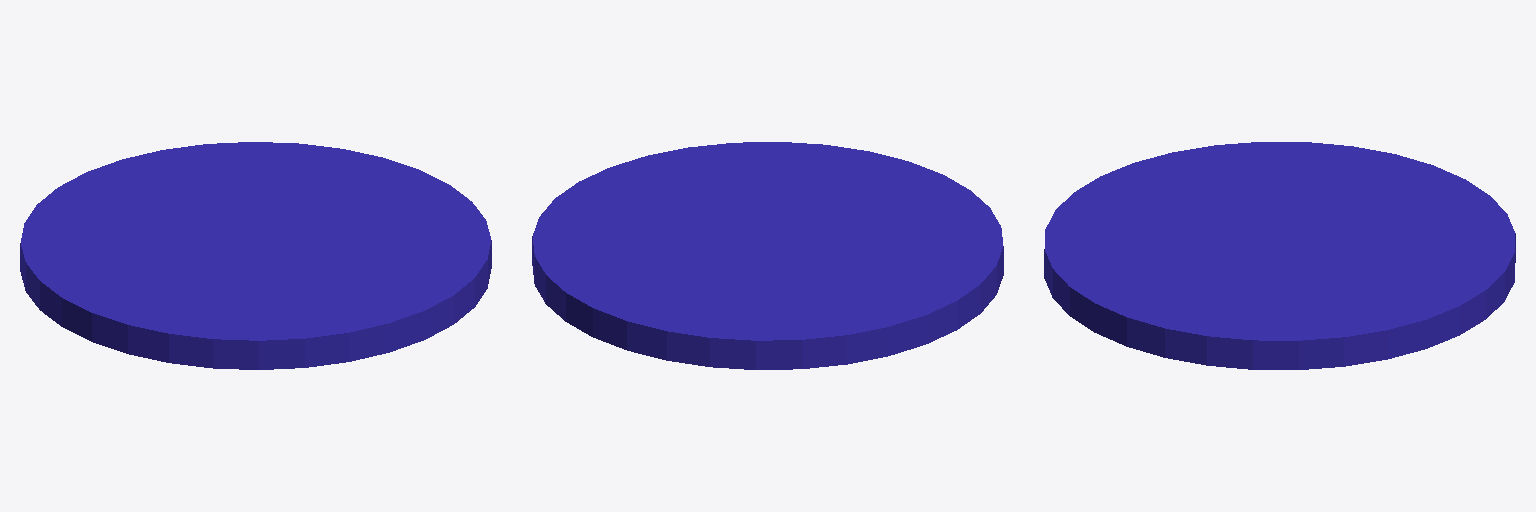
robot.urdf — Interference:
<?xml version="1.0"?>
<robot name="Interference">
  <link name="baseLink">
    <inertial>
      <origin xyz="0.0 0.0 0.0" rpy="0.0 0.0 0.0"/>
      <inertia ixx="0.0" ixy="0.0" ixz="0.0" iyy="0.0" iyz="0.0" izz="0.0"/>
      <mass value="0"/>
    </inertial>
    <visual>
      <origin xyz="0.0 0.0 0.0" rpy="0.0 0.0 -1.2943274595750913"/>
      <geometry>
        <cylinder radius="0.07270178413075491" length="0.01"/>
      </geometry>
      <material name="color">
        <color rgba="0.27702616279021075 0.23479204687880018 0.7463738716265187 1.0"/>
      </material>
    </visual>
  </link>
</robot>

--- What the picture shows (computed from the rendered views, not written in the file) ---
Views: 3 orthographic renders of the robot side by side, from view 1: azimuth 30°, elevation 25°; view 2: azimuth 150°, elevation 25°; view 3: azimuth 270°, elevation 25°.
Model Interference with 1 links and 0 joints (none), rooted at baseLink, posed all joints at 0.
Links seen in each view (by area): view 1: baseLink; view 2: baseLink; view 3: baseLink.
Link boxes in pixels (x1,y1,x2,y2): baseLink: (20,142,491,369); baseLink: (532,142,1003,369); baseLink: (1044,142,1515,369).
Size in the robot's own frame: 0.1449 by 0.1449 by 0.01 metres.
Geometry: primitives only (box / cylinder / sphere), no mesh files.